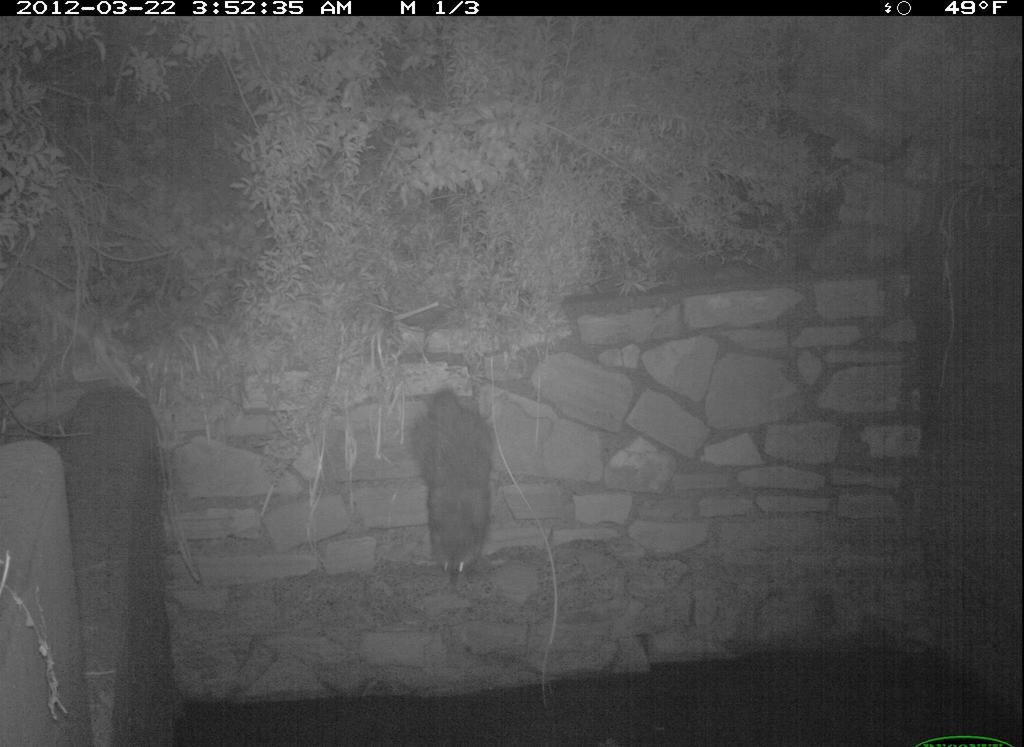raccoon: (390, 374, 533, 598)
